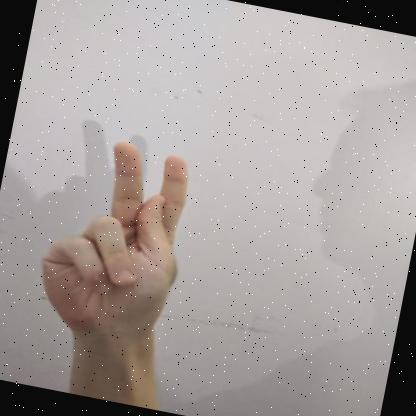K: (41, 141, 188, 349)
